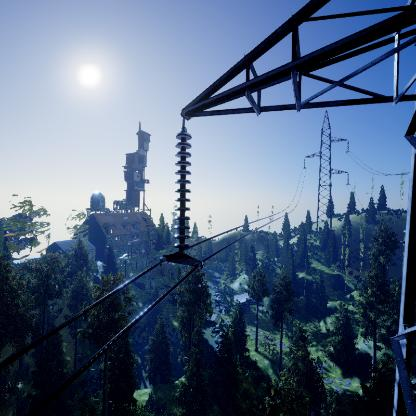insulator: (170, 131, 194, 253)
tower: (299, 107, 353, 233)
